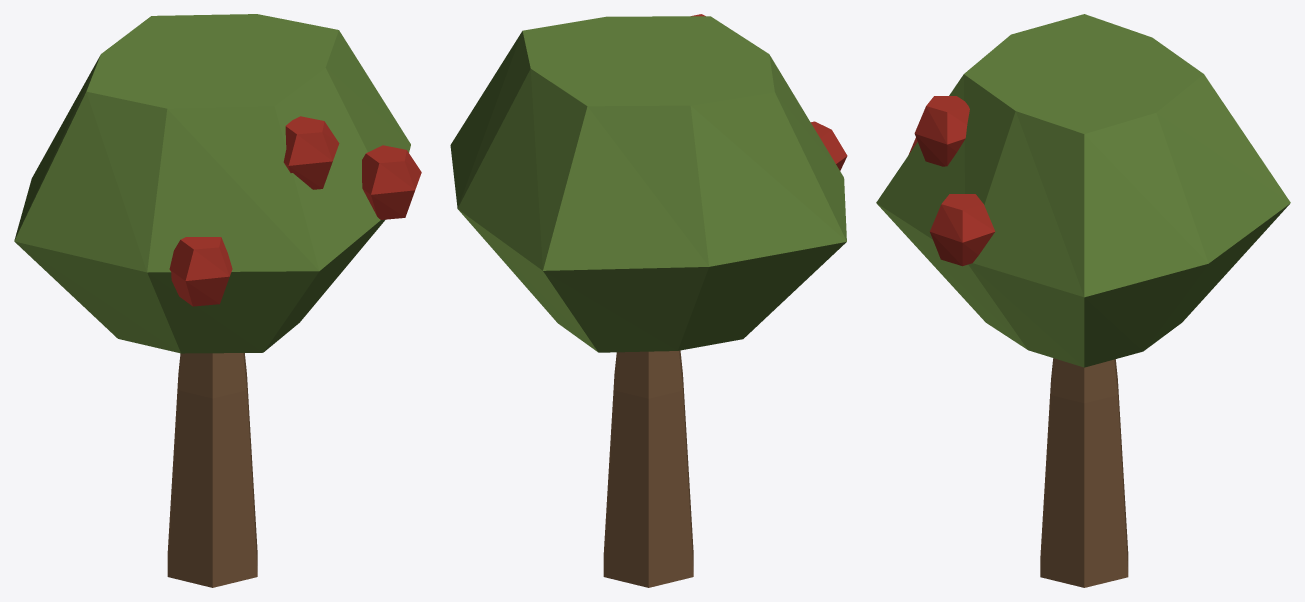
The model's file is melo.glb.
The picture shows the model from 3 angles, left to right: view 1: azimuth 30°, elevation 25°; view 2: azimuth 150°, elevation 25°; view 3: azimuth 270°, elevation 25°; orthographic projection. The views are drawn at different scales.
Bounding box in the file's own units: 0.88 × 1.07 × 0.817.
